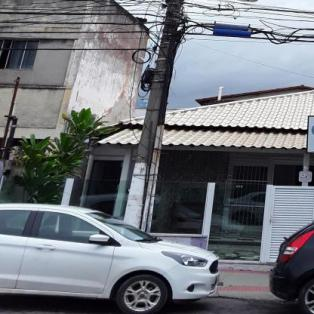Poste: (114, 0, 211, 230)
